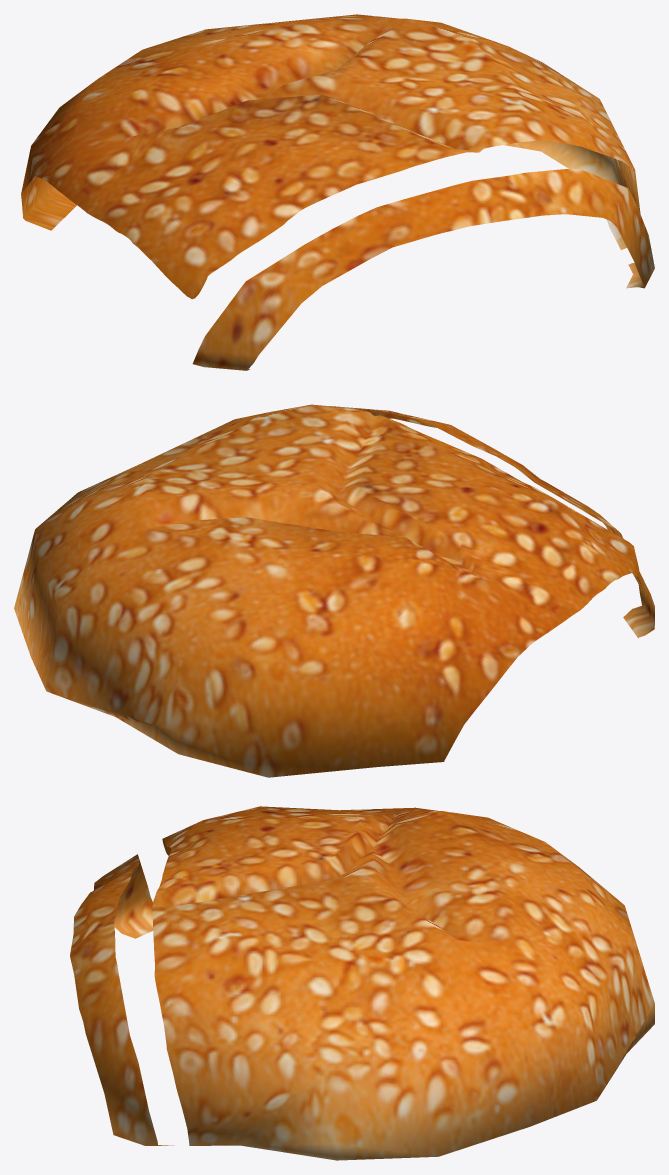
The model's file is burger_bun_01 (1).FBX.
The picture shows the model from 3 angles, top to bottom: view 1: azimuth 30°, elevation 25°; view 2: azimuth 150°, elevation 25°; view 3: azimuth 270°, elevation 25°; orthographic projection.
Parts seen in each view (by area): view 1: burger_bun_01_LOD00; view 2: burger_bun_01_LOD00; view 3: burger_bun_01_LOD00.
Boxes of the visible parts, x1,y1,x2,y2 form: burger_bun_01_LOD00: (21, 14, 654, 370); burger_bun_01_LOD00: (14, 404, 654, 777); burger_bun_01_LOD00: (70, 806, 654, 1160).
Size of what is drawn, in the model's own units: 13.85 by 4.17 by 13.75.
